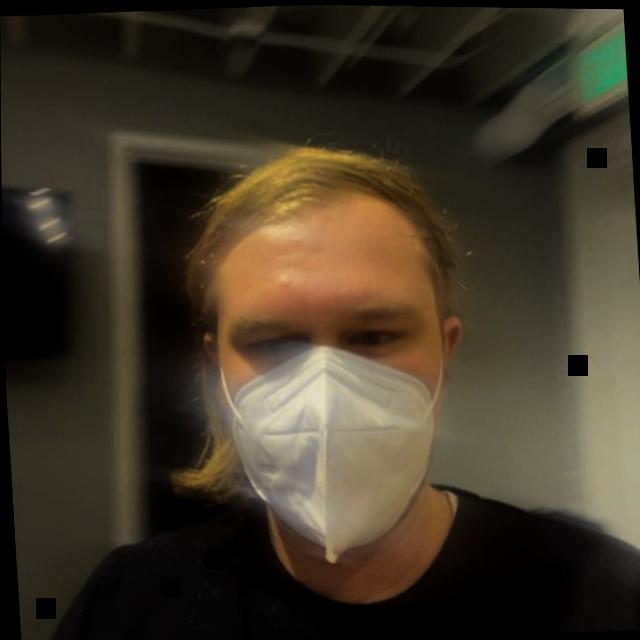Mask: (168, 135, 495, 606)
